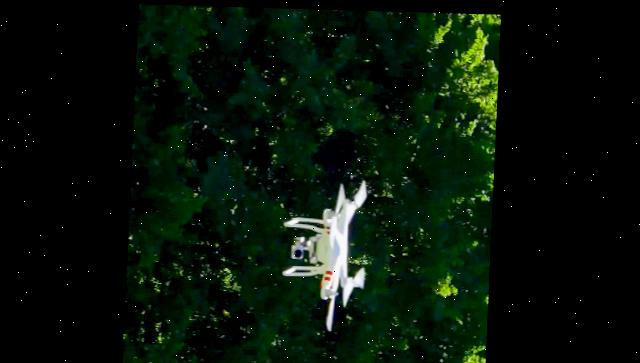drone: (283, 173, 371, 323)
